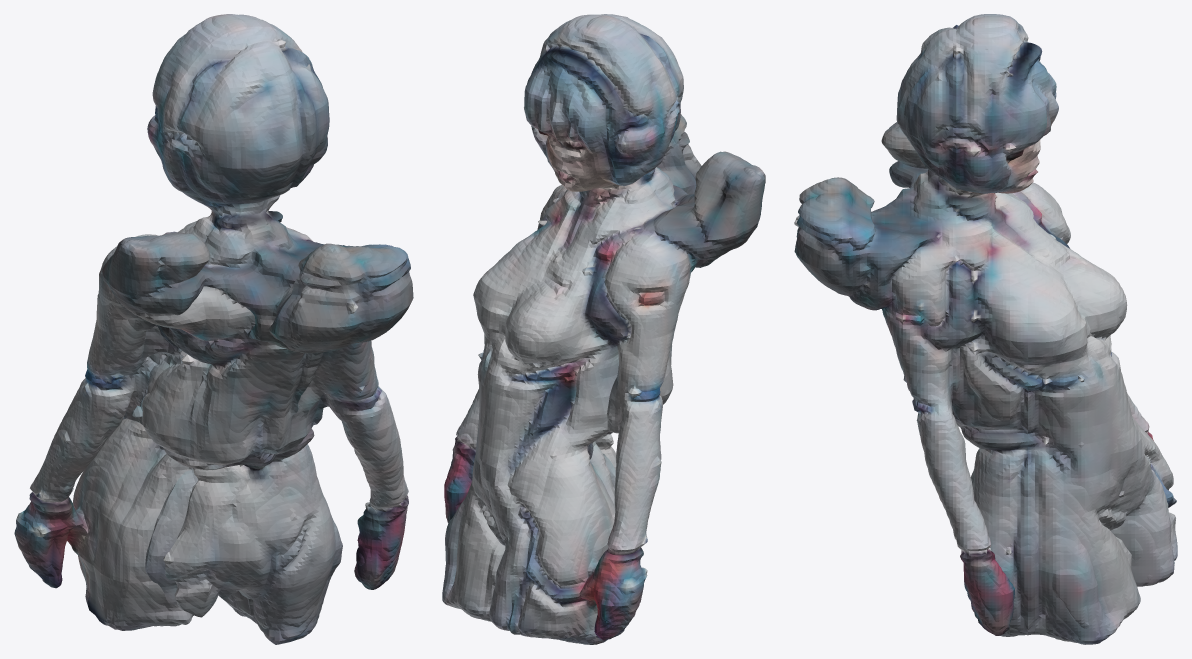
File: ReiMediuim.glb
3 renders of one model, left to right at view 1: azimuth 30°, elevation 25°; view 2: azimuth 150°, elevation 25°; view 3: azimuth 270°, elevation 25°, orthographic. The views are drawn at different scales.
Parts seen in each view (by area): view 1: world; view 2: world; view 3: world.
Part boxes in pixels (x1,y1,x2,y2): world: [14, 14, 413, 644]; world: [442, 14, 765, 644]; world: [794, 14, 1177, 644].
Bounding box in the file's own units: 0.5007 × 0.9808 × 0.5858.
